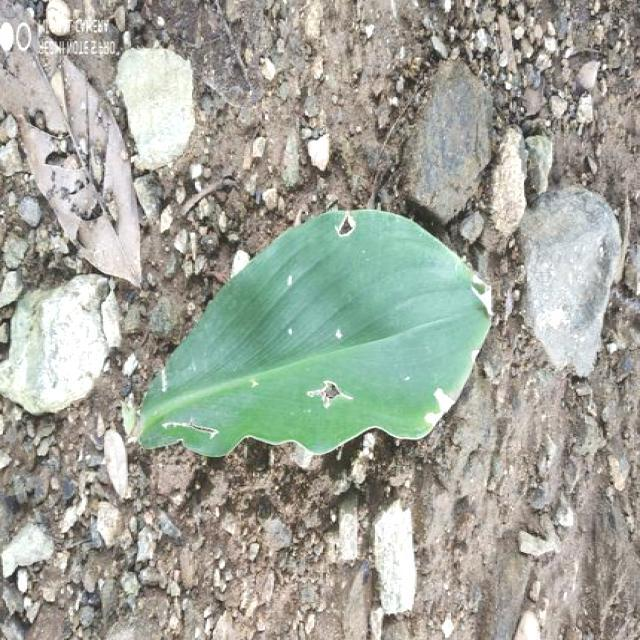leaf: (134, 207, 493, 458)
